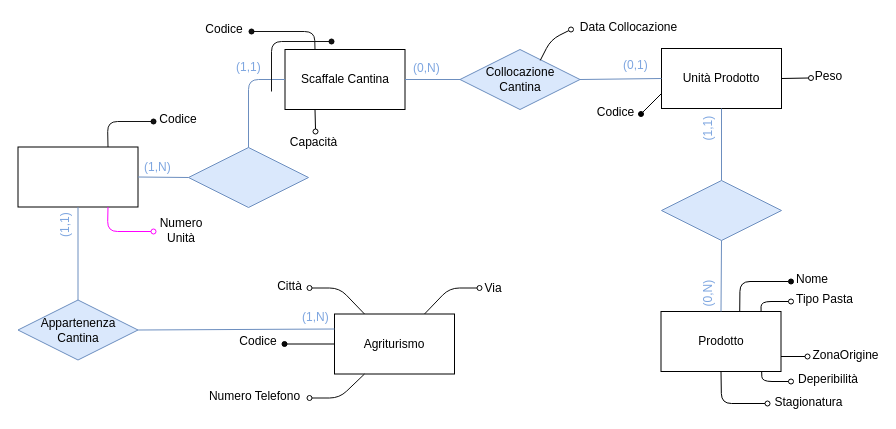
The diagram is 896 pixels wide and 429 high, and some of its shapes have lost their labels. Here are the shapes that lost their labels. From the top down, the centre of each, then its label:
At (x=77, y=176): "Cantina".
At (x=248, y=177): "Disposizione Cantina".
At (x=721, y=210): "Informazioni".
